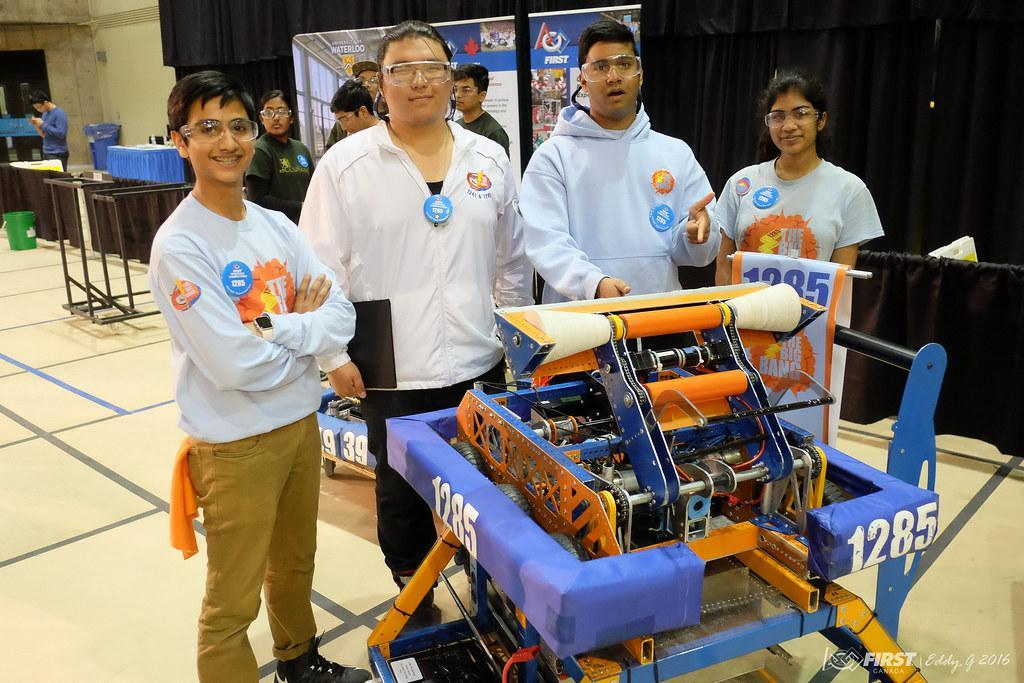robot: (345, 242, 956, 683)
